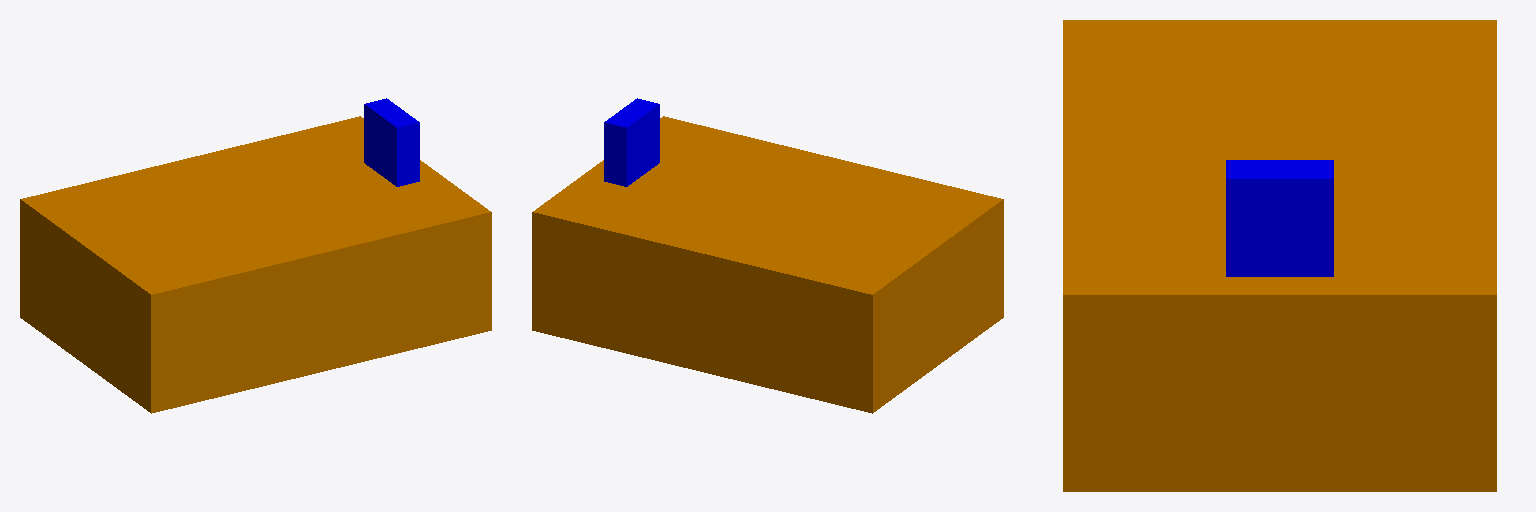
URDF robot description (mycar):
<robot name="mycar">
    <link name="base_link">
        <visual>
            <geometry>
                <box size="0.3 0.2 0.1"/>
            </geometry>
            <origin xyz="0 0 0" rpy="0 0 0"/>
            <material name="car_color">
                <color rgba="0.8 0.5 0 0.5"/>
            </material>
        </visual>
    </link>

    <link name="camera">
        <visual>
            <geometry>
                <box size="0.02 0.05 0.05"/>
            </geometry>
            <origin xyz="0 0 0.025" rpy="0 0 0"/>
            <material name="camera_color">
                <color rgba="0 0 1 1"/>
            </material>
        </visual>
    </link>

    <joint name="camera2base" type="continuous">
        <parent link="base_link"/>
        <child link="camera"/>
        <origin xyz="0.12 0 0.05" rpy="0 0 0"/>
        <axis xyz="0 0 1"/>
    </joint>


</robot>

--- Render facts (derived) ---
3 views of the same robot in one strip: view 1: azimuth 30°, elevation 25°; view 2: azimuth 150°, elevation 25°; view 3: azimuth 270°, elevation 25° (orthographic).
Model mycar with 2 links and 1 joints (1 continuous), rooted at base_link, posed every joint at zero.
Visible links, largest first — view 1: base_link, camera; view 2: base_link, camera; view 3: base_link, camera.
Link boxes in pixels (box(x1,y1,x2,y2)): base_link: box(20, 116, 491, 413); camera: box(364, 98, 419, 186); base_link: box(532, 116, 1003, 413); camera: box(604, 98, 659, 186); base_link: box(1063, 20, 1496, 491); camera: box(1226, 160, 1333, 276).
Bounding box of the posed robot: 0.3 × 0.2 × 0.15 m (x, y, z).
Geometry: primitives only (box / cylinder / sphere), no mesh files.